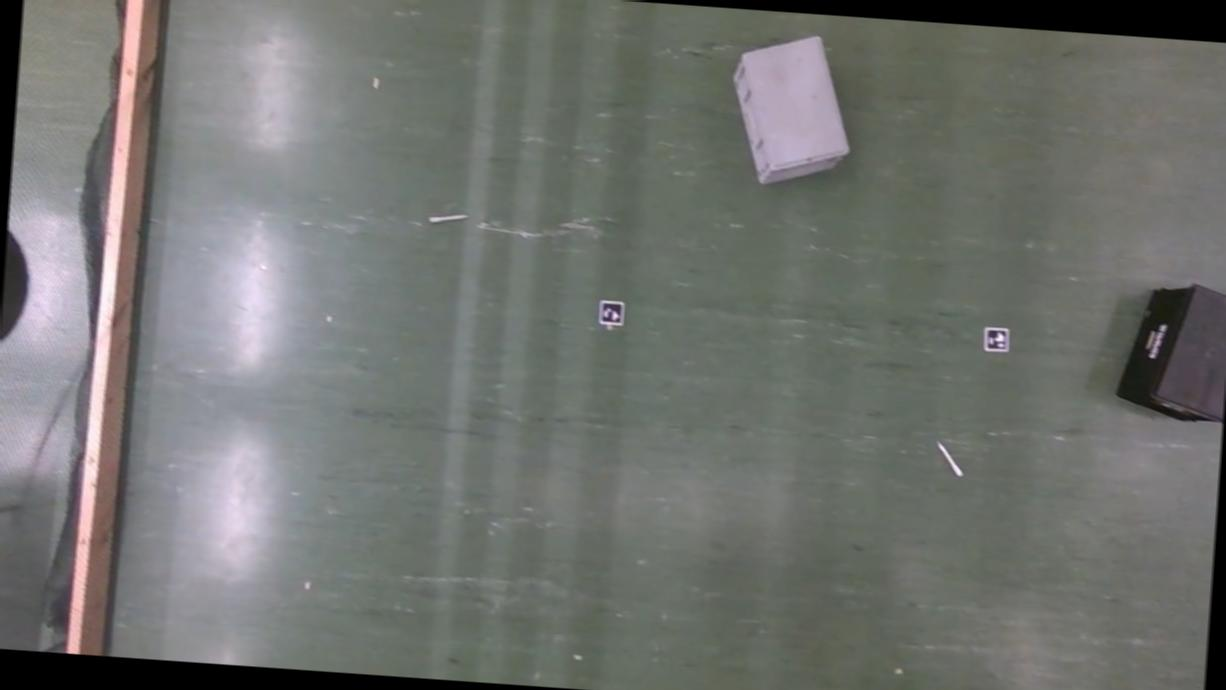probes: (934, 442, 962, 477)
rako: (725, 32, 857, 192), (1113, 279, 1226, 424)
